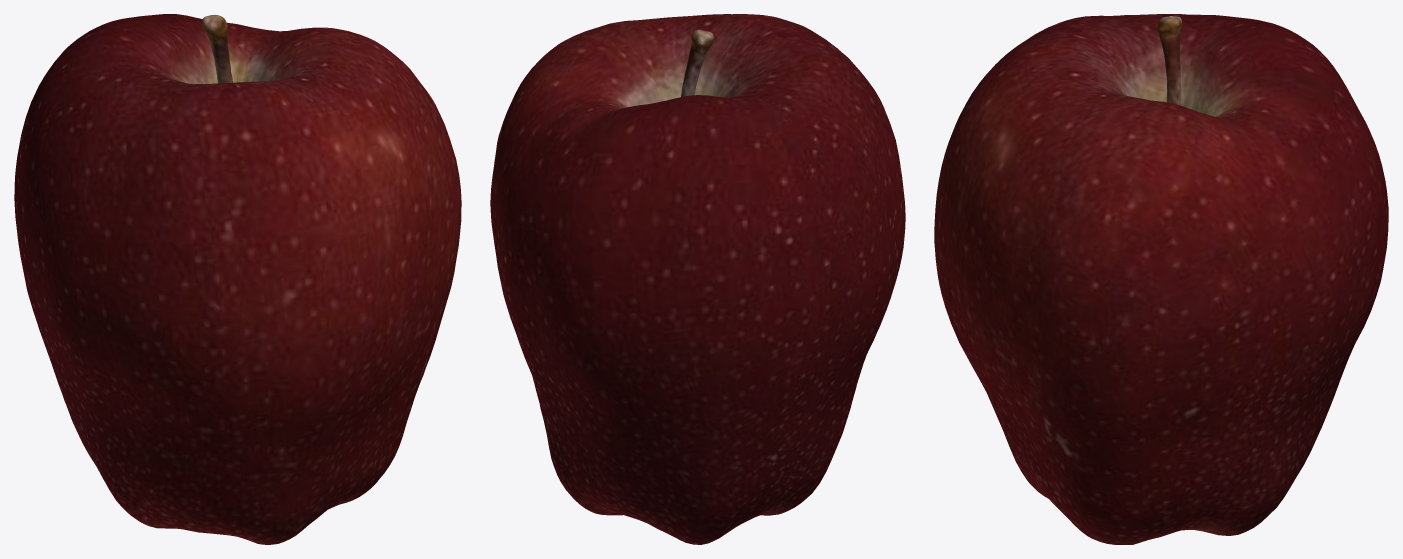
The picture shows the model from 3 angles, left to right: view 1: azimuth 30°, elevation 25°; view 2: azimuth 150°, elevation 25°; view 3: azimuth 270°, elevation 25°; orthographic projection. The views are drawn at different scales.
Visible parts, largest first — view 1: part_00; view 2: part_00; view 3: part_00.
Part boxes in pixels (bbox=[...]): part_00: bbox=[14, 14, 461, 544]; part_00: bbox=[490, 14, 905, 544]; part_00: bbox=[934, 14, 1388, 544].
Size of the model in its own units: 0.0776 by 0.0954 by 0.081.
1 material, 1 textured.
